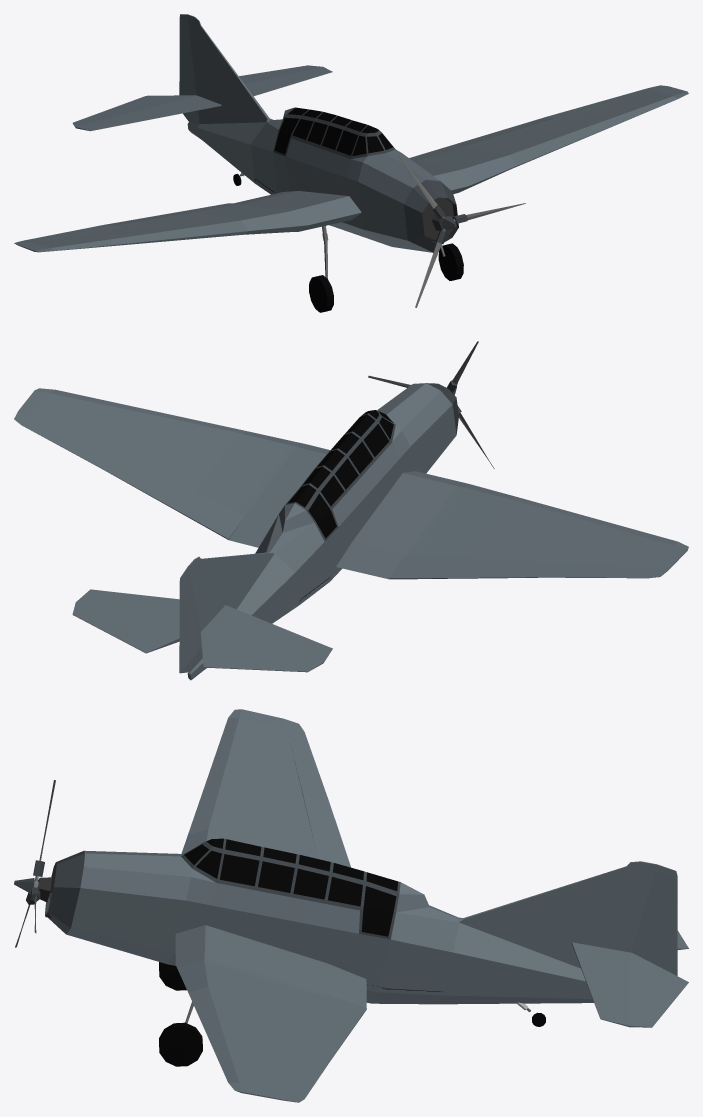
3 renders of one model, top to bottom at view 1: azimuth 30°, elevation 25°; view 2: azimuth 150°, elevation 25°; view 3: azimuth 270°, elevation 25°, orthographic. The views are drawn at different scales.
Visible parts, largest first — view 1: Circle.044, Circle.050, Circle.051, Circle.049, Circle.045, Circle.048, Landing gear_RL.009, Circle.053, Landing gear_RL.008, Circle.054, Circle.052, Circle.046; view 2: Circle.044, Circle.053, Circle.046, Circle.051, Circle.048, Circle.054, Circle.050, Circle.045, Circle.052, Circle.047, Circle.049; view 3: Circle.044, Circle.051, Circle.050, Circle.045, Circle.054, Circle.053, Circle.046, Landing gear_RL.008, Circle.047, Circle.049, Circle.052.
Part boxes in pixels (left/top/right/bottom): Circle.044: left=14, top=21, right=688, bottom=252; Circle.050: left=273, top=107, right=395, bottom=158; Circle.051: left=306, top=112, right=367, bottom=158; Circle.049: left=399, top=156, right=525, bottom=307; Circle.045: left=179, top=14, right=200, bottom=123; Circle.048: left=72, top=95, right=196, bottom=127; Landing gear_RL.009: left=309, top=226, right=333, bottom=312; Circle.053: left=409, top=116, right=554, bottom=161; Landing gear_RL.008: left=438, top=243, right=463, bottom=280; Circle.054: left=239, top=65, right=322, bottom=84; Circle.052: left=547, top=88, right=652, bottom=119; Circle.046: left=102, top=203, right=242, bottom=226; Circle.044: left=14, top=383, right=688, bottom=680; Circle.053: left=102, top=456, right=244, bottom=539; Circle.046: left=389, top=555, right=553, bottom=579; Circle.051: left=314, top=414, right=391, bottom=492; Circle.048: left=200, top=631, right=323, bottom=672; Circle.054: left=72, top=602, right=179, bottom=653; Circle.050: left=285, top=410, right=395, bottom=541; Circle.045: left=179, top=556, right=202, bottom=673; Circle.052: left=21, top=417, right=115, bottom=468; Circle.047: left=547, top=562, right=653, bottom=578; Circle.049: left=368, top=341, right=494, bottom=468; Circle.044: left=45, top=709, right=654, bottom=1102; Circle.051: left=218, top=839, right=332, bottom=903; Circle.050: left=181, top=838, right=400, bottom=939; Circle.045: left=626, top=861, right=677, bottom=975; Circle.054: left=629, top=952, right=688, bottom=1027; Circle.053: left=303, top=994, right=366, bottom=1062; Circle.046: left=303, top=797, right=350, bottom=867; Landing gear_RL.008: left=159, top=1002, right=202, bottom=1066; Circle.047: left=287, top=729, right=328, bottom=801; Circle.049: left=14, top=780, right=55, bottom=947; Circle.052: left=287, top=1053, right=328, bottom=1098.
Bounding box in the file's own units: 1581 × 431 × 1178.
